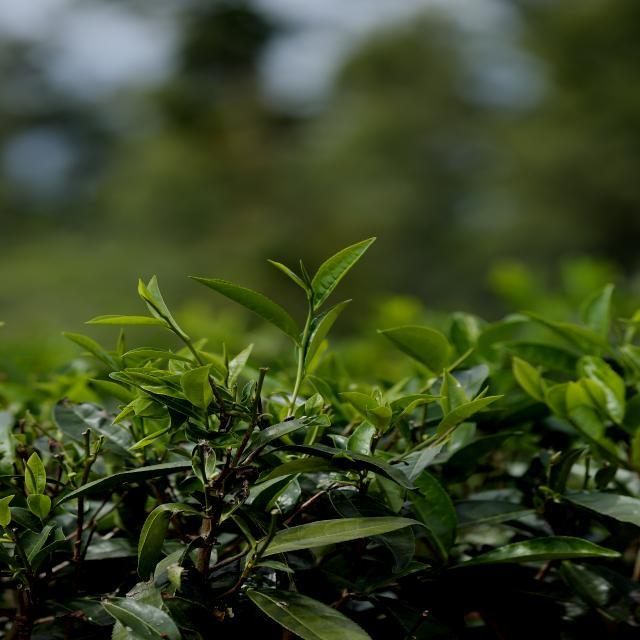Stem: (309, 309, 313, 315), (170, 325, 174, 329)
